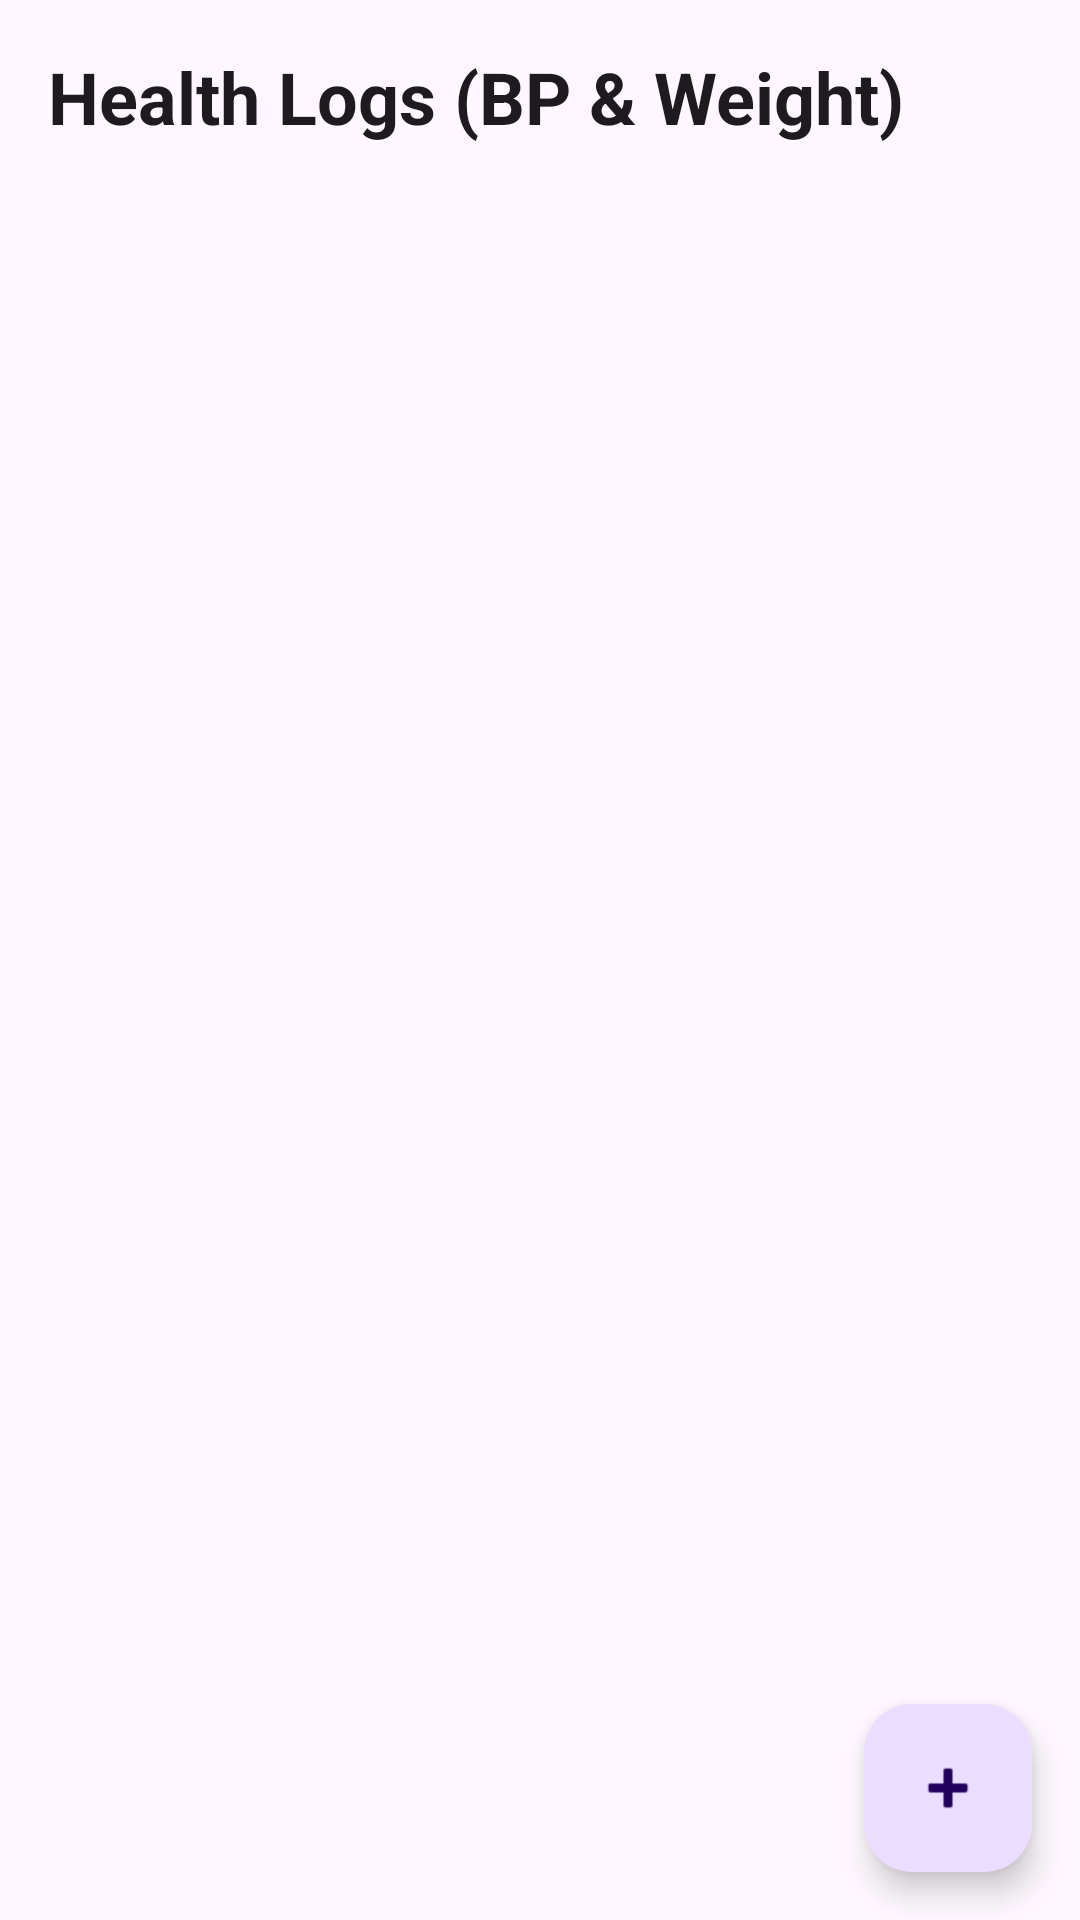

Locate icon controls on the screen. Image size 1080x1920, boxes as (x1, y1, x2, y2).
Add Health Log: (864, 1704, 1032, 1872)
